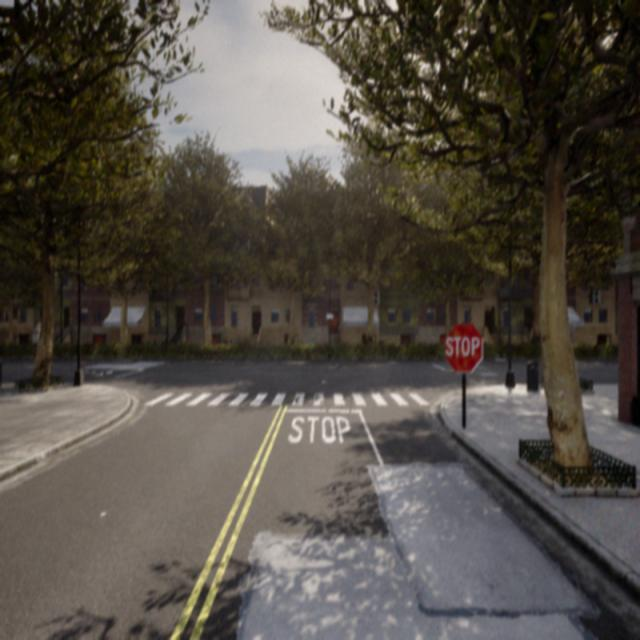stop sign: (441, 319, 485, 375), (443, 333, 481, 359)
